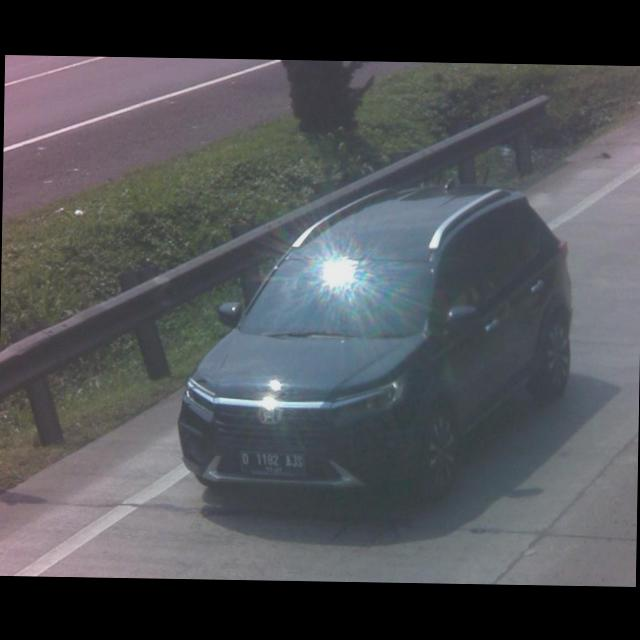plate: (236, 452, 306, 476)
